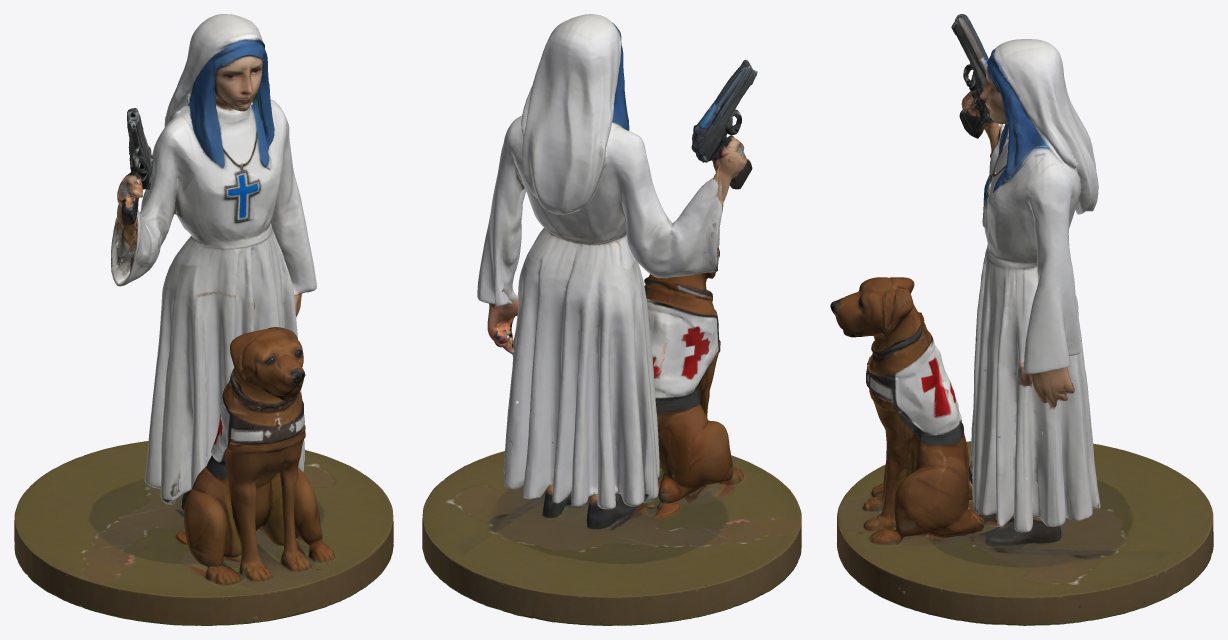
Rendered from Guardian_of_Peace.glb.
3 views of the same model, side by side, from view 1: azimuth 30°, elevation 25°; view 2: azimuth 150°, elevation 25°; view 3: azimuth 270°, elevation 25° (orthographic).
Bounding box in the file's own units: 1.32 × 1.99 × 1.34.
Materials: 1 (1 with a texture image).
